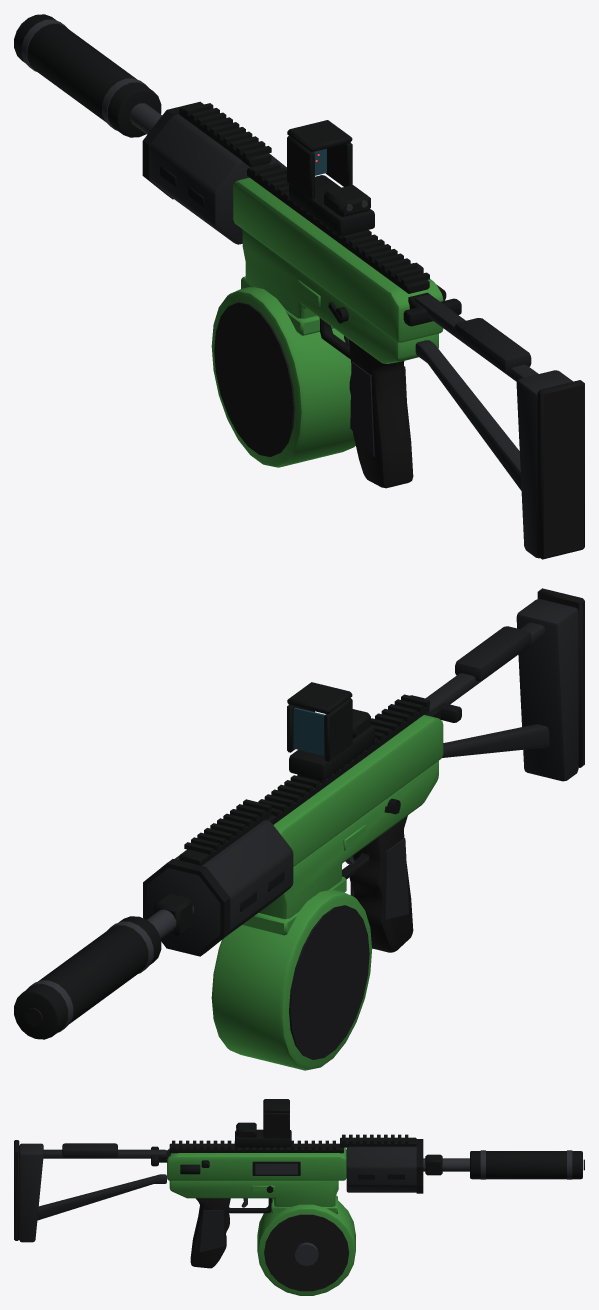
The model's file is gun_42.glb.
The picture shows the model from 3 angles, top to bottom: view 1: azimuth 30°, elevation 25°; view 2: azimuth 150°, elevation 25°; view 3: azimuth 270°, elevation 25°; orthographic projection. The views are drawn at different scales.
Visible parts, largest first — view 1: gun_42; view 2: gun_42; view 3: gun_42.
Boxes of the visible parts, x1,y1,x2,y2 form: gun_42: [14, 14, 584, 559]; gun_42: [14, 588, 584, 1070]; gun_42: [14, 1099, 584, 1295].
Bounding box in the file's own units: 0.0817 × 0.3038 × 0.8585.
